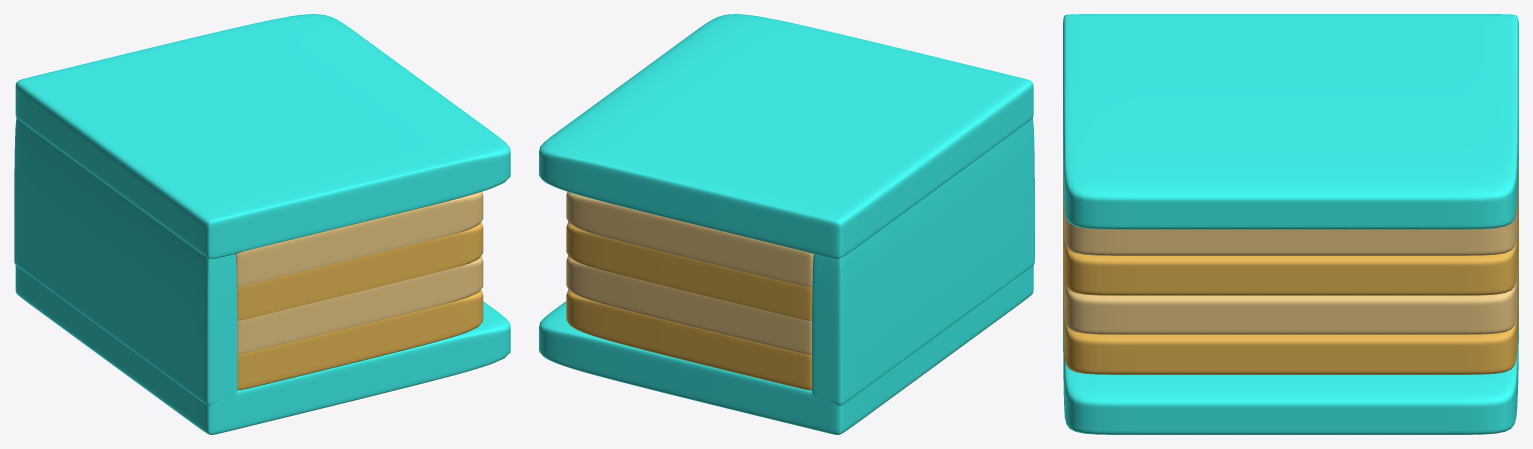
Rendered from папка6.fbx.
The picture shows the model from 3 angles, left to right: view 1: azimuth 30°, elevation 25°; view 2: azimuth 150°, elevation 25°; view 3: azimuth 270°, elevation 25°; orthographic projection. The views are drawn at different scales.
Visible parts, largest first — view 1: Cube_2; view 2: Cube_2; view 3: Cube_2.
Part boxes in pixels (x1,y1,x2,y2): Cube_2: (14, 14, 510, 434); Cube_2: (539, 14, 1034, 434); Cube_2: (1063, 14, 1518, 434).
Bounding box in the file's own units: 141 × 92.42 × 151.
